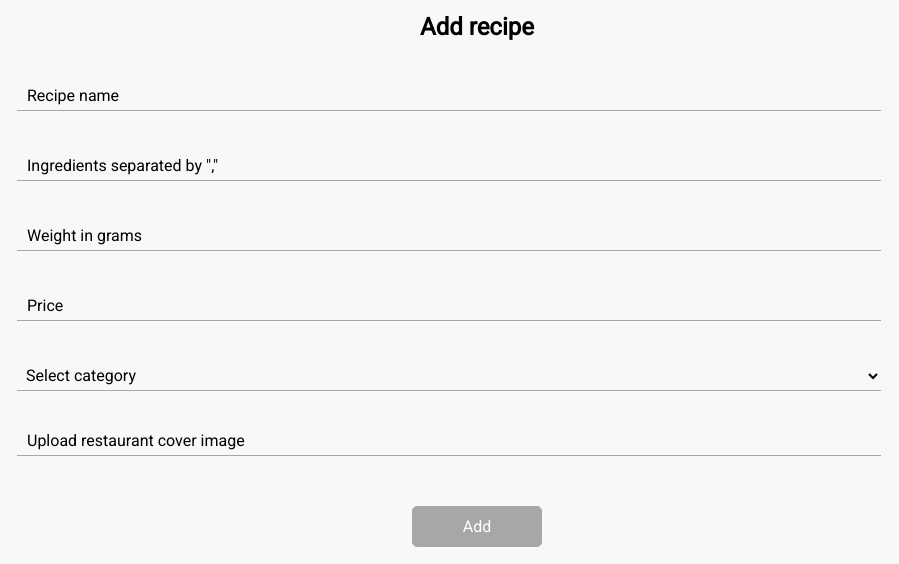
Test: Add recipe modal › add button should be enabled
This screenshot has width=899, height=564.
Type "recipe name" into the field with test id "name". click: {"x": 449, "y": 96}
box: [17,81,881,111]
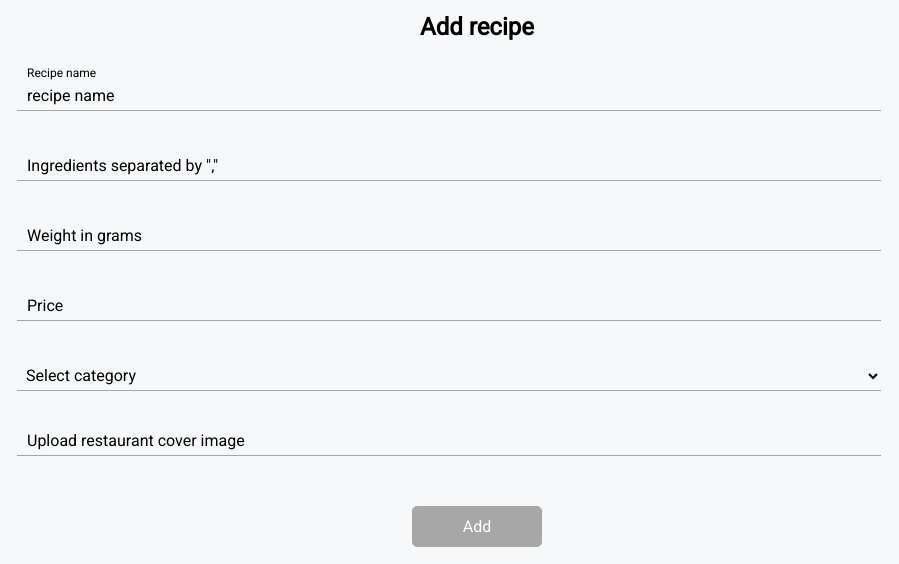
Type "a,b,c" into the field with test id "ingredients". click: {"x": 449, "y": 166}
box: [17,151,881,181]
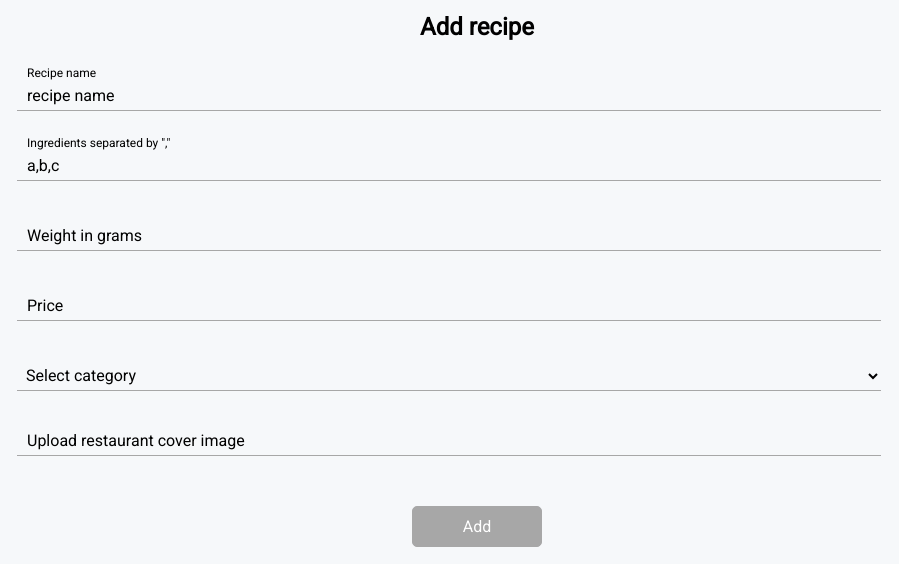
Type "299" into the number field with test id "weight". click: {"x": 449, "y": 236}
box: [17,221,881,251]
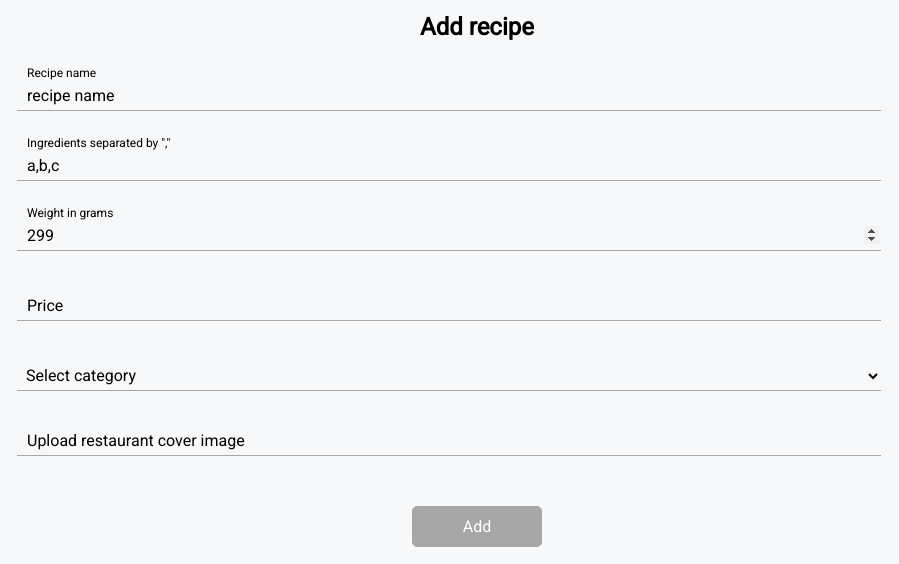
Type "3.99" into the number field with test id "price". click: {"x": 449, "y": 306}
box: [17,291,881,321]
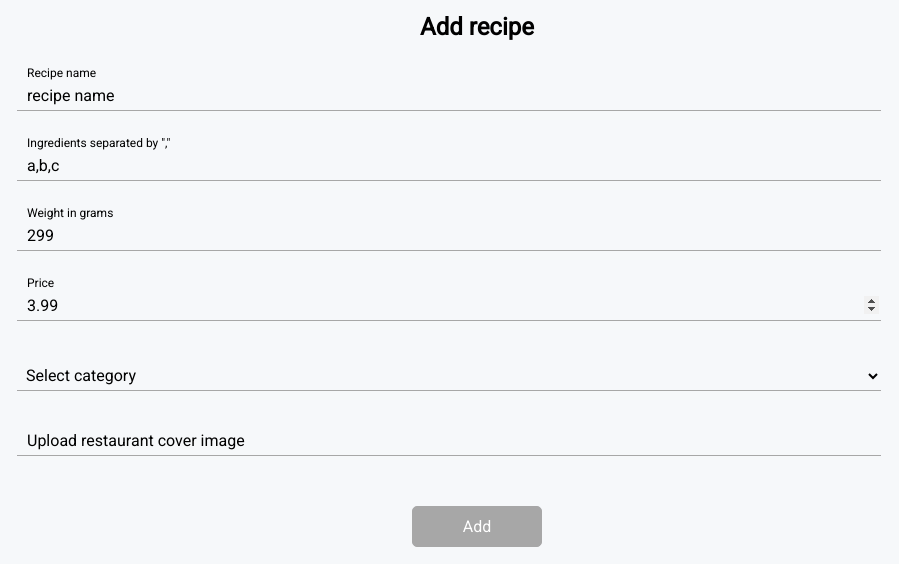
Select "category" in the dropdown with test id "category". click: {"x": 449, "y": 376}
box: [17,361,881,391]
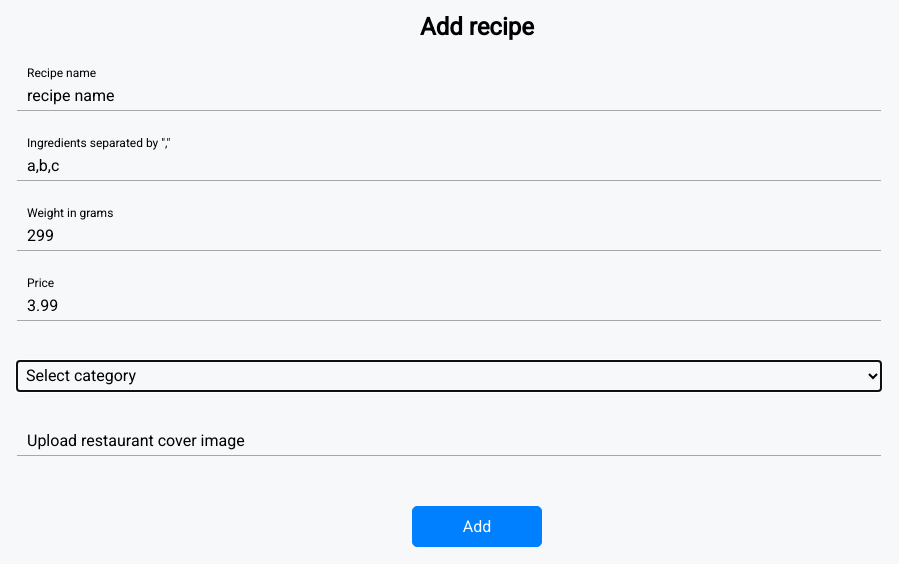
Check: the button "Add" is enabled, box [412,506,542,547]
